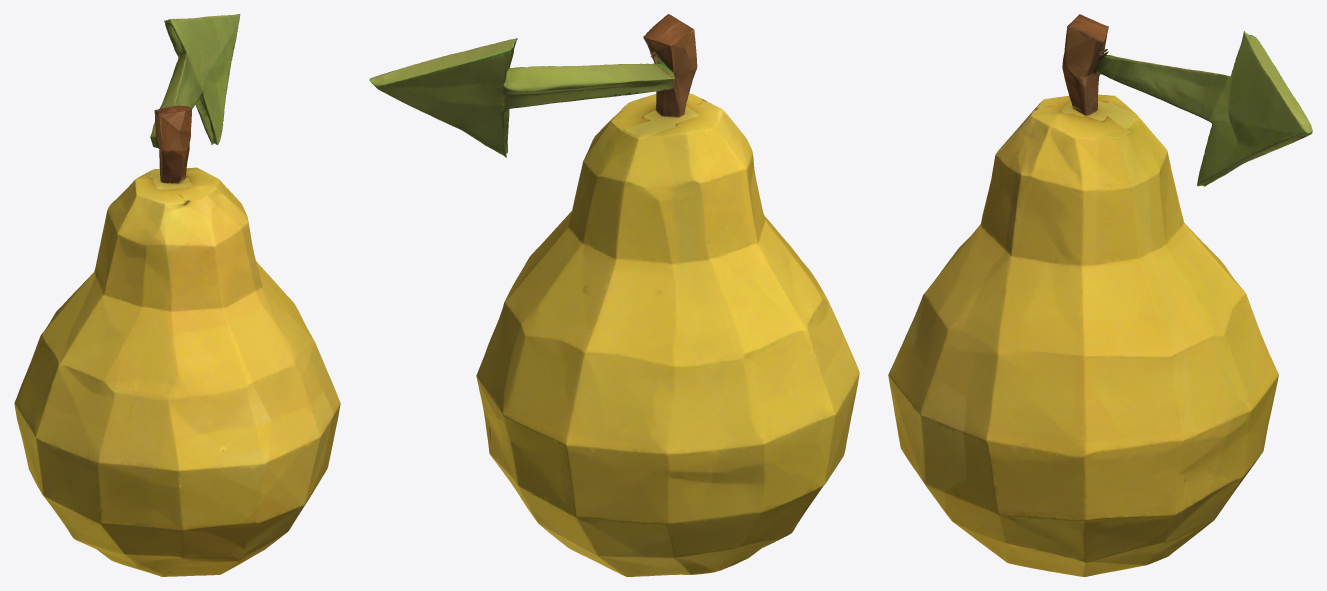
The model's file is grucha.glb.
The picture shows the model from 3 angles, left to right: view 1: azimuth 30°, elevation 25°; view 2: azimuth 150°, elevation 25°; view 3: azimuth 270°, elevation 25°; orthographic projection. The views are drawn at different scales.
Bounding box in the file's own units: 1.31 × 1.98 × 1.37.
Materials: 1 (1 with a texture image).
